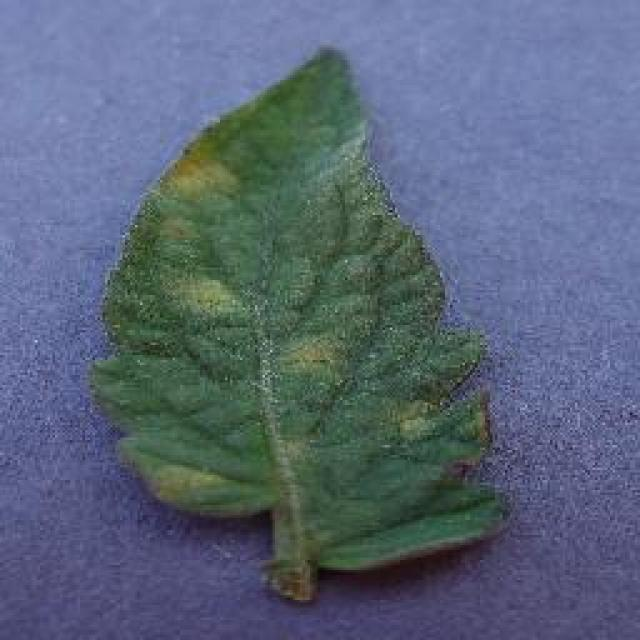Tomato mold leaf: (96, 44, 514, 574)
